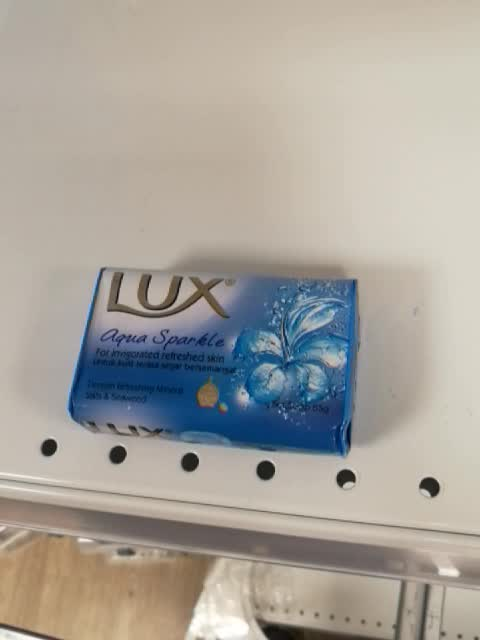soap: (65, 265, 359, 459)
